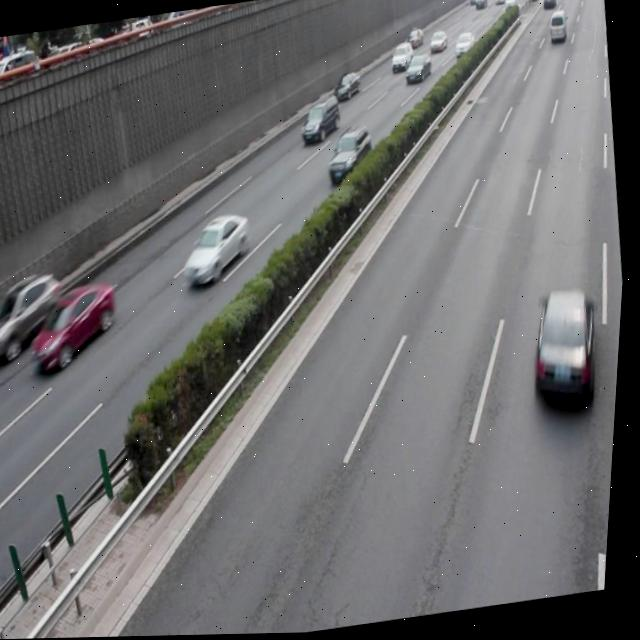car: (525, 284, 608, 416), (27, 277, 128, 373), (0, 266, 75, 362), (181, 209, 258, 285), (323, 123, 377, 188)
truck: (297, 94, 345, 145)
